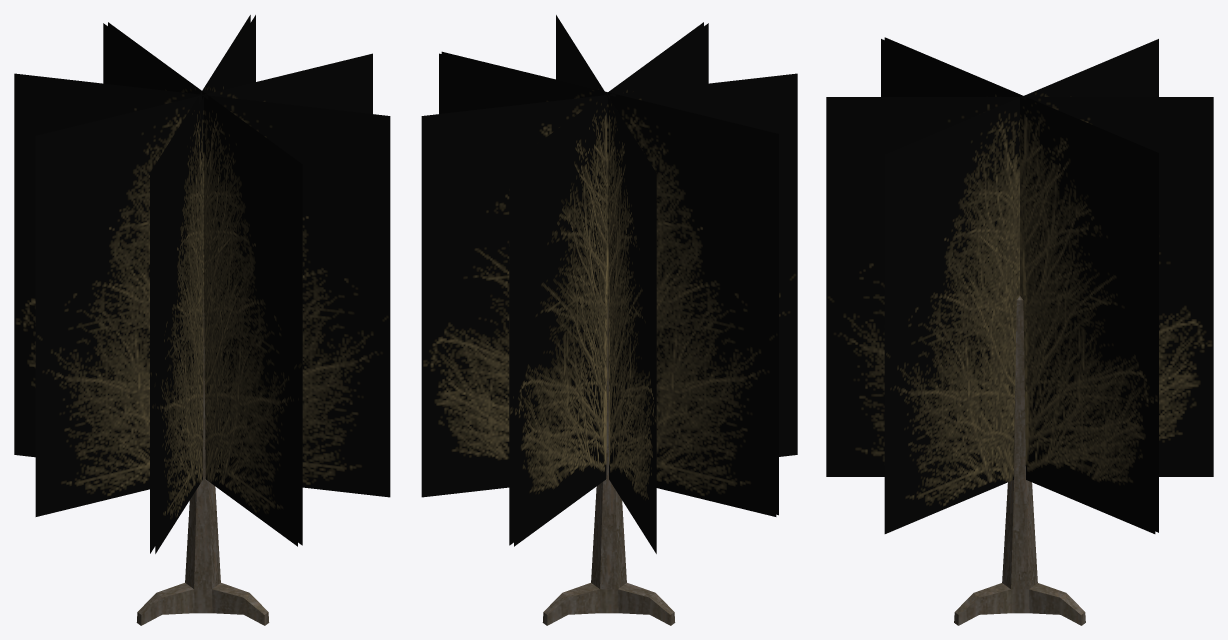
File: tree04_winter.gltf
The picture shows the model from 3 angles, left to right: view 1: azimuth 30°, elevation 25°; view 2: azimuth 150°, elevation 25°; view 3: azimuth 270°, elevation 25°; orthographic projection.
Visible parts, largest first — view 1: tree04_top, tree04; view 2: tree04_top, tree04; view 3: tree04_top, tree04.
Part boxes in pixels (x1,y1,x2,y2): tree04_top: [14, 15, 390, 553]; tree04: [136, 299, 269, 625]; tree04_top: [421, 15, 797, 553]; tree04: [542, 299, 675, 625]; tree04_top: [826, 37, 1213, 533]; tree04: [954, 296, 1085, 625].
Bounding box in the file's own units: 2.96 × 4.32 × 2.96.
Materials: 1 (1 with a texture image).
